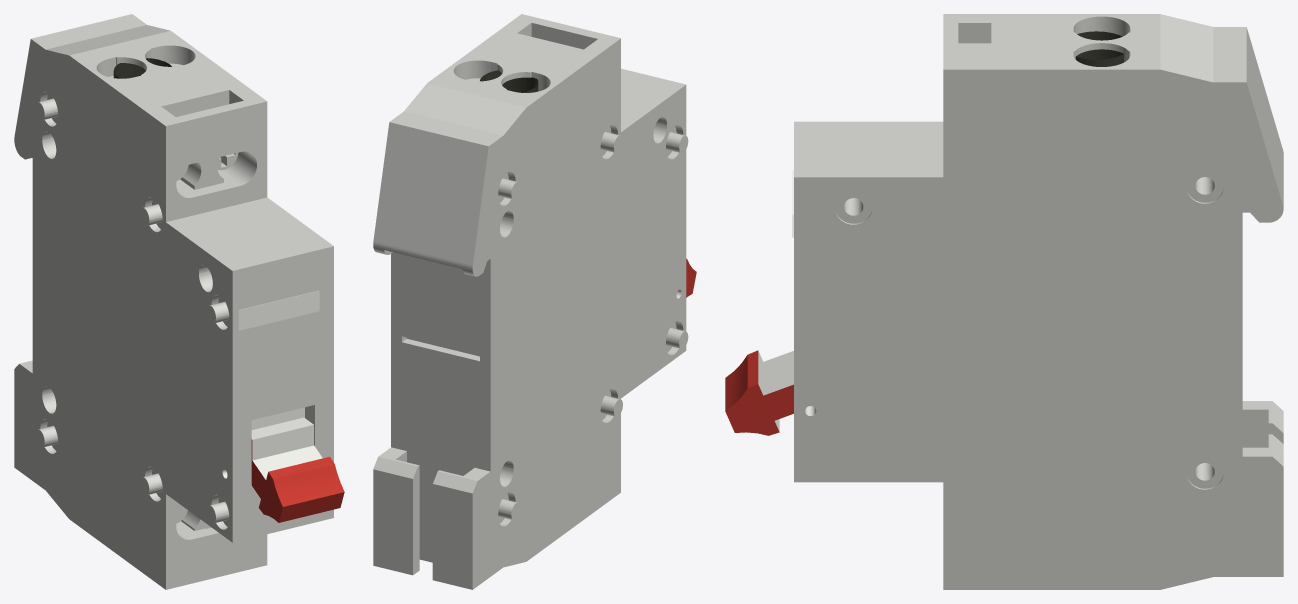
Rendered from schneider-ez9s-1p.glb.
3 renders of one model, left to right at view 1: azimuth 30°, elevation 25°; view 2: azimuth 150°, elevation 25°; view 3: azimuth 270°, elevation 25°, orthographic. The views are drawn at different scales.
Visible parts, largest first — view 1: ez9s_body_1, dcsimu_handle_1, ez9s_lever_1, ez9s_pos_on, cavity_1; view 2: ez9s_body_1, cavity_1; view 3: ez9s_body_1, dcsimu_handle_1, ez9s_lever_1, cavity_1.
Part boxes in pixels (left/top/right/bottom): ez9s_body_1: left=14, top=14, right=333, bottom=589; dcsimu_handle_1: left=251, top=439, right=344, bottom=522; ez9s_lever_1: left=222, top=405, right=322, bottom=486; ez9s_pos_on: left=238, top=290, right=319, bottom=330; cavity_1: left=113, top=58, right=171, bottom=78; ez9s_body_1: left=373, top=14, right=688, bottom=589; cavity_1: left=480, top=70, right=538, bottom=92; ez9s_body_1: left=794, top=14, right=1283, bottom=589; dcsimu_handle_1: left=725, top=350, right=793, bottom=435; ez9s_lever_1: left=758, top=351, right=816, bottom=431; cavity_1: left=1075, top=31, right=1123, bottom=66.
Bounding box in the file's own units: 0.0192 × 0.0768 × 0.0747.
